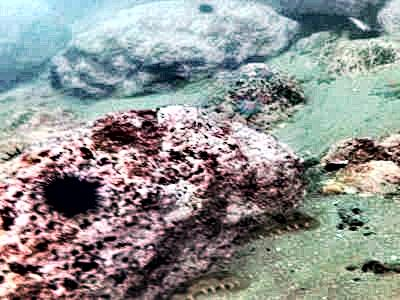urchin: (42, 174, 98, 217)
